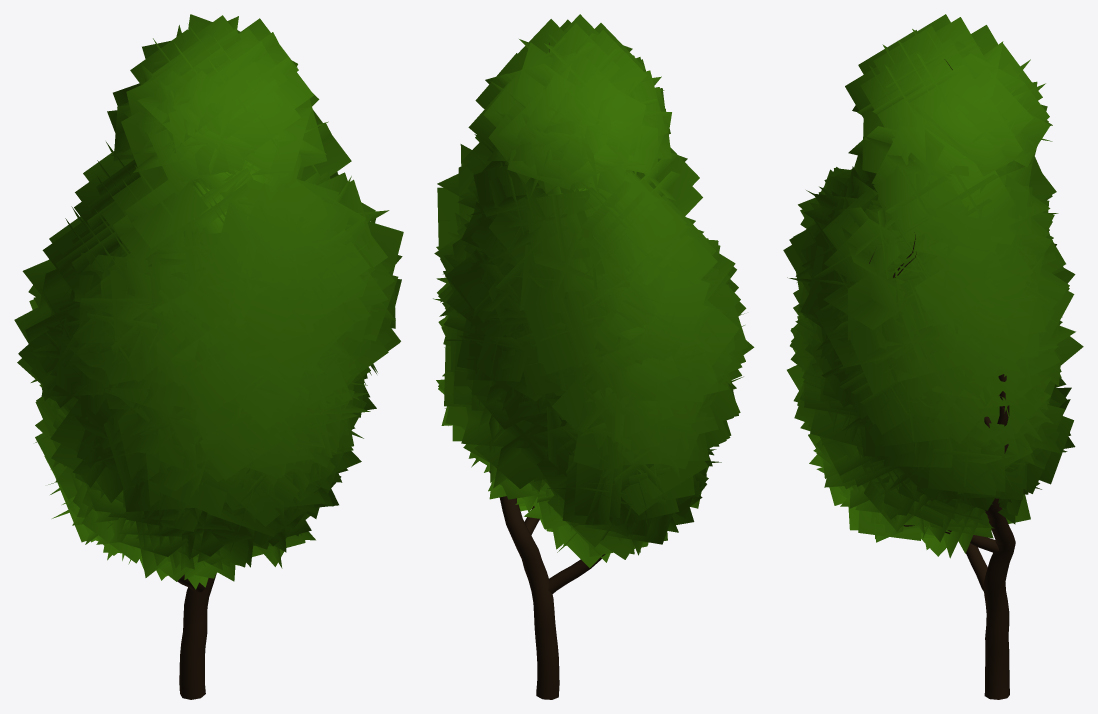
Rendered from tree_lod1.fbx.
3 renders of one model, left to right at view 1: azimuth 30°, elevation 25°; view 2: azimuth 150°, elevation 25°; view 3: azimuth 270°, elevation 25°, orthographic. The views are drawn at different scales.
Parts seen in each view (by area): view 1: transform1; view 2: transform1; view 3: transform1.
Part boxes in pixels (bbox=[...]): transform1: bbox=[14, 14, 403, 699]; transform1: bbox=[433, 14, 754, 699]; transform1: bbox=[783, 14, 1083, 699].
Size of the model in its own units: 329 by 646 by 263.
